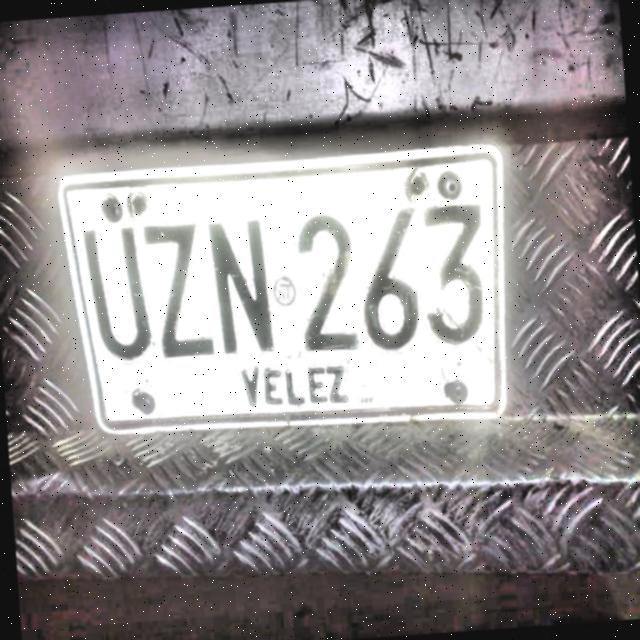2: (293, 207, 362, 360)
3: (418, 200, 491, 356)
6: (356, 200, 424, 357)
N: (202, 215, 279, 363)
U: (74, 220, 159, 371)
Z: (137, 210, 220, 371)
